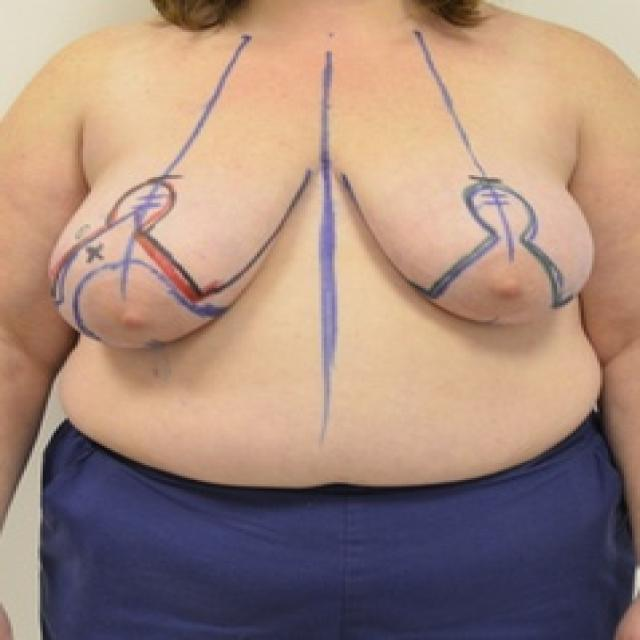Seno ileso: (36, 105, 318, 368), (329, 106, 606, 346)
